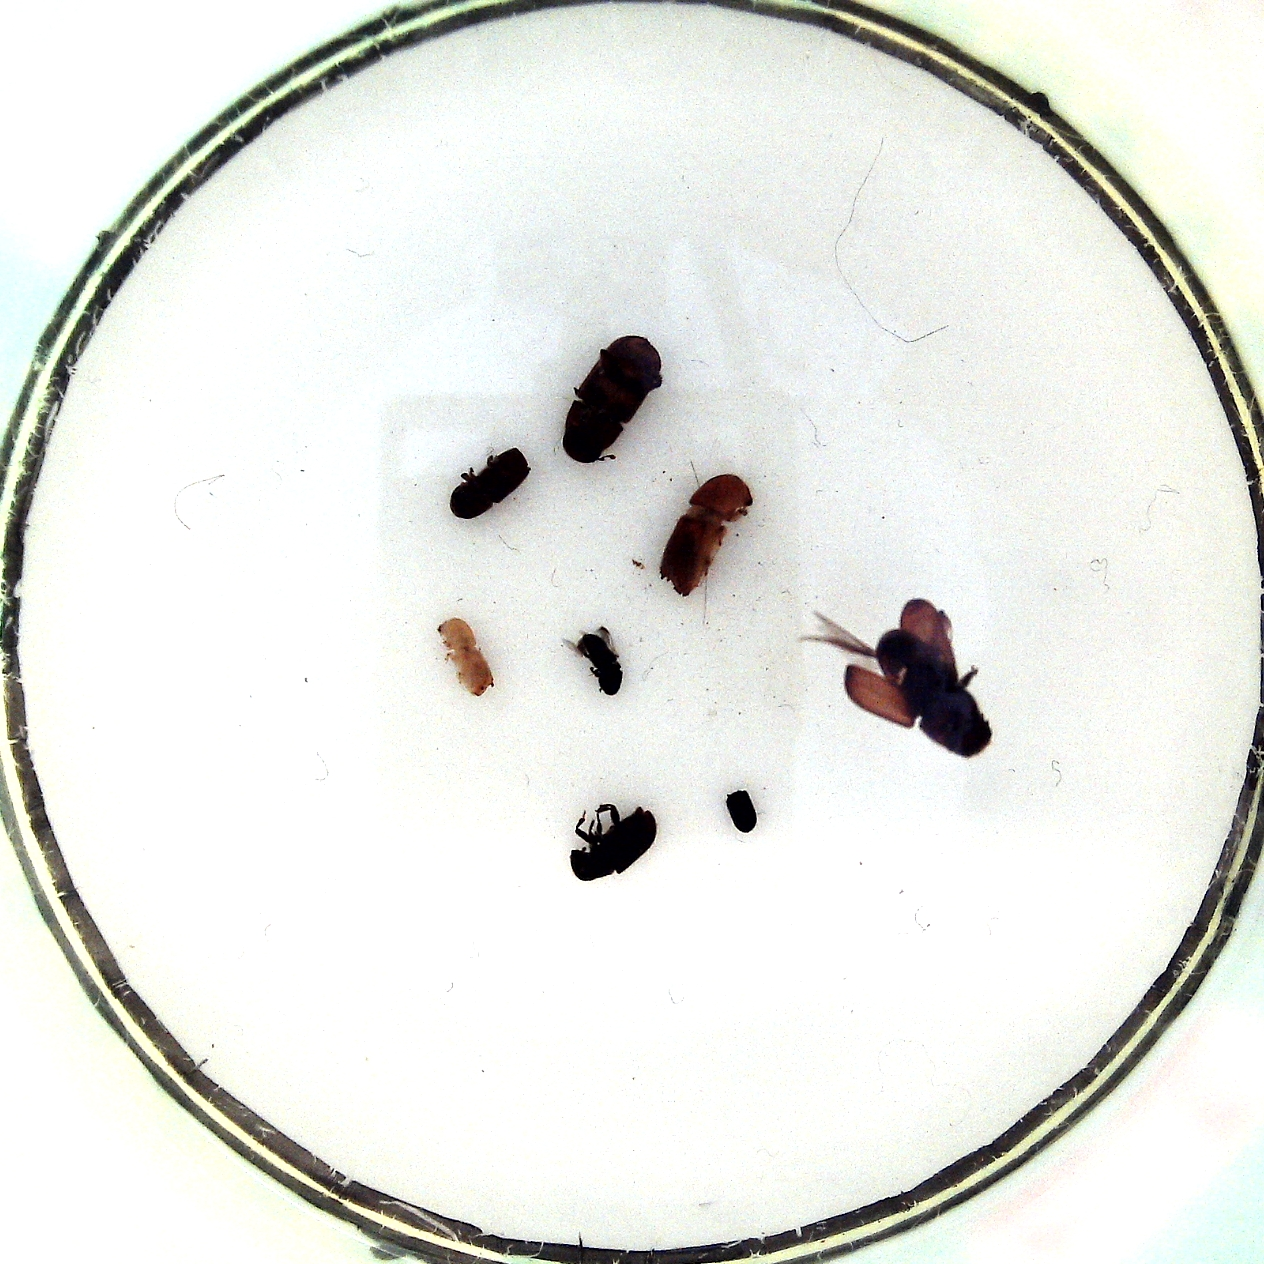Boerner: (652, 466, 757, 597)
Leconte: (798, 591, 1004, 762), (560, 331, 673, 469)
Linnaeus: (444, 441, 534, 526)
acuminatus: (431, 608, 498, 700)
armandi: (567, 795, 662, 884)
coleoptera: (554, 616, 629, 697), (719, 785, 762, 835)
